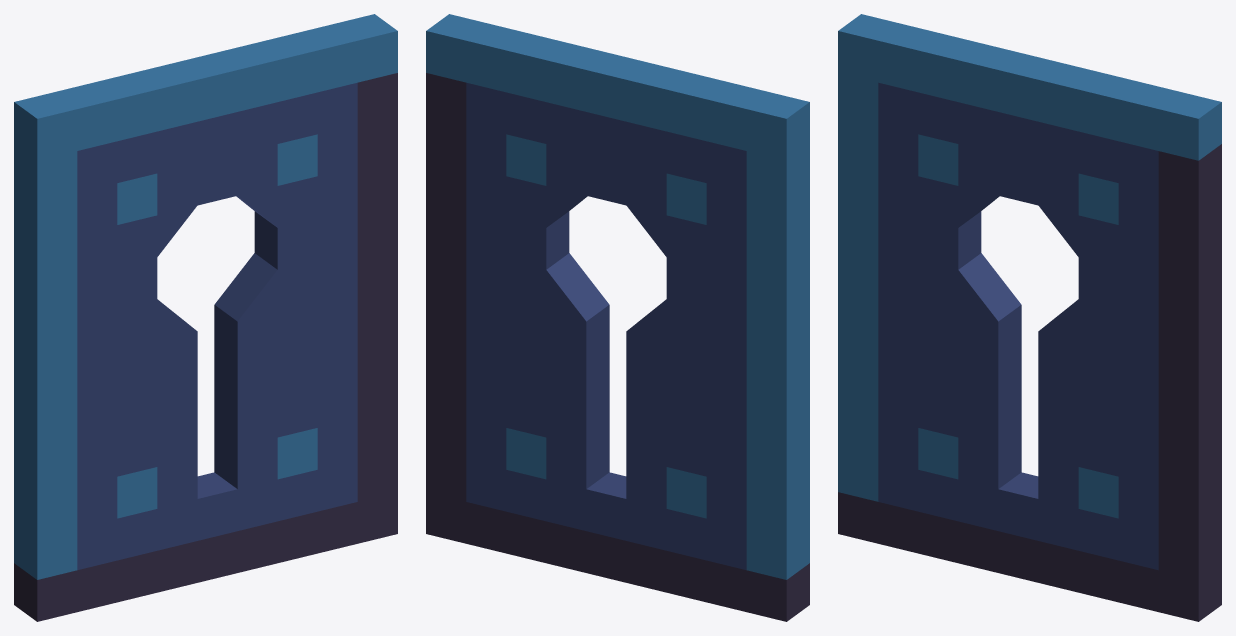
The model's file is keyhole.glb.
3 views of the same model, side by side, from view 1: azimuth 30°, elevation 25°; view 2: azimuth 150°, elevation 25°; view 3: azimuth 330°, elevation 25° (orthographic).
Visible parts, largest first — view 1: generated(Clone); view 2: generated(Clone); view 3: generated(Clone).
Boxes of the visible parts, x1,y1,x2,y2 form: generated(Clone): (14, 14, 397, 621); generated(Clone): (426, 14, 809, 621); generated(Clone): (838, 14, 1221, 621).
Size of the model in its own units: 9 by 12 by 1.
1 material, 1 textured.
